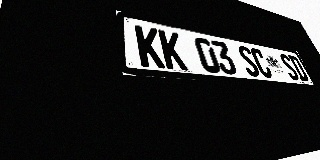0: (193, 36, 222, 74)
3: (210, 39, 238, 75)
C: (249, 47, 274, 78)
D: (287, 55, 310, 82)
K: (134, 25, 166, 69), (158, 29, 188, 71)
S: (235, 44, 262, 77), (278, 53, 301, 81)
